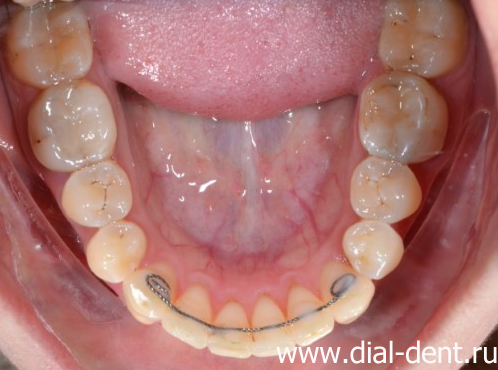LL1BC_healthy: (344, 220, 402, 276)
LL1M_decay: (361, 75, 450, 159)
LL2BC_healthy: (352, 159, 422, 222)
LL2M_decay: (380, 2, 469, 75)
LLCI_decay: (252, 297, 292, 356)
LLC_decay: (324, 264, 378, 327)
LLLI_decay: (286, 285, 332, 343)
LR1BC_healthy: (89, 222, 148, 278)
LR1M_healthy: (33, 88, 116, 163)
LR2BC_decay: (59, 166, 133, 221)
LR2M_healthy: (11, 11, 95, 82)
LRCI_decay: (212, 304, 253, 358)
LRC_decay: (131, 264, 171, 321)
LRLI_decay: (173, 290, 211, 355)
